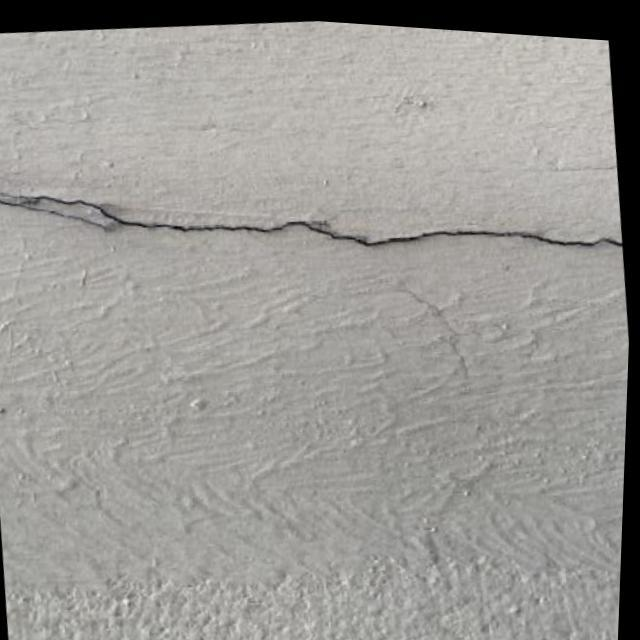Crack: (6, 183, 616, 258)
